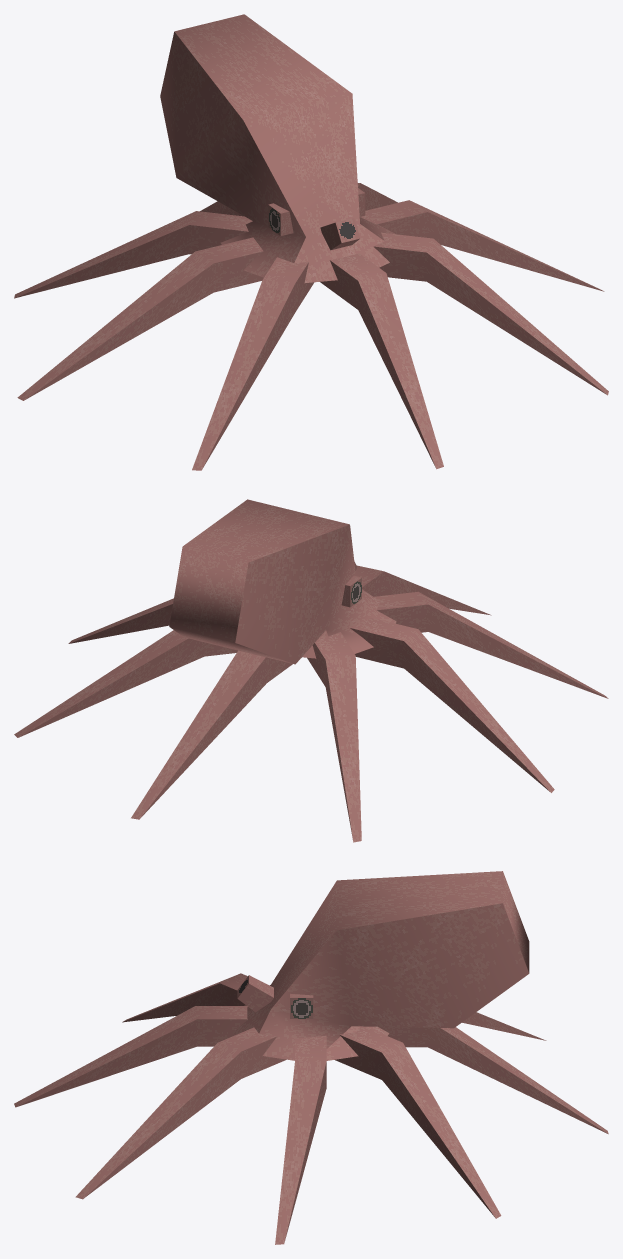
Rendered from 0400_Gigantic_Octopus.glb.
3 views of the same model, one above another, from view 1: azimuth 30°, elevation 25°; view 2: azimuth 150°, elevation 25°; view 3: azimuth 270°, elevation 25° (orthographic). The views are drawn at different scales.
Visible parts, largest first — view 1: part_0; view 2: part_0; view 3: part_0.
Part boxes in pixels (x1,y1,x2,y2): part_0: [14, 14, 608, 470]; part_0: [14, 499, 608, 842]; part_0: [14, 871, 608, 1244].
Size of the model in its own units: 207 by 89.24 by 207.
1 material, 1 textured.
